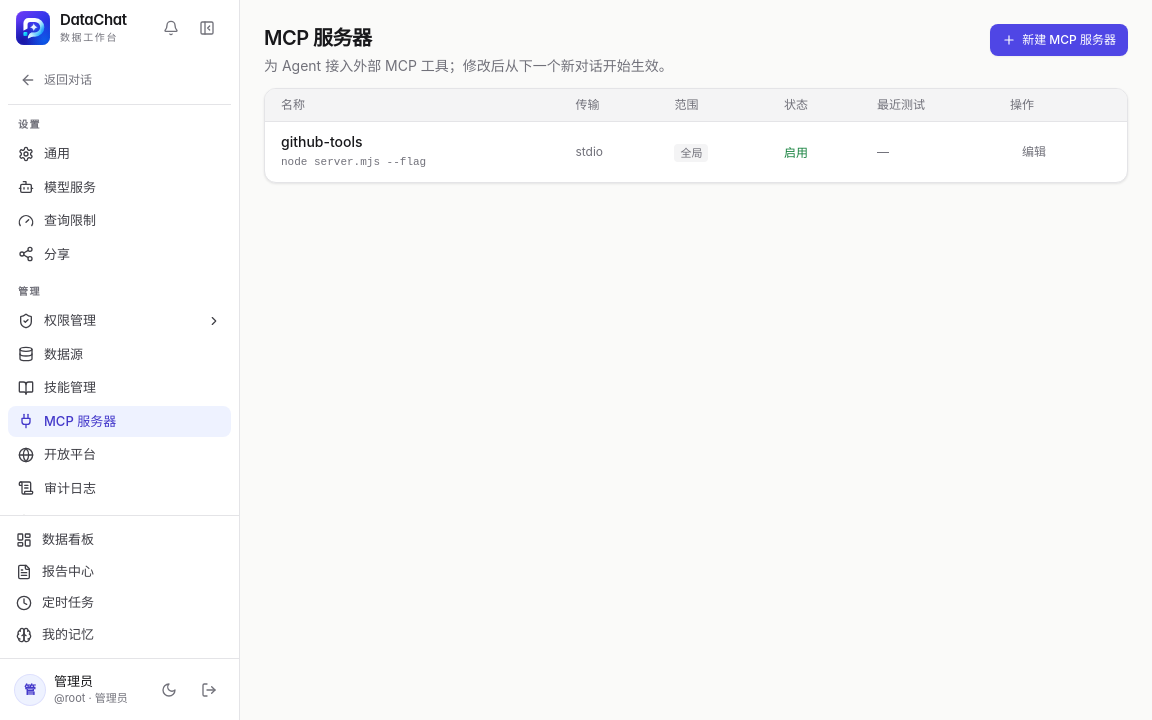
Test: McpPage › shows a sanitized failure message when the connection test fails
The width and height of the screenshot is (1152, 720).
Click the button "编辑" at (1034, 152), box [1010,136,1058,168]
(page scrolled)
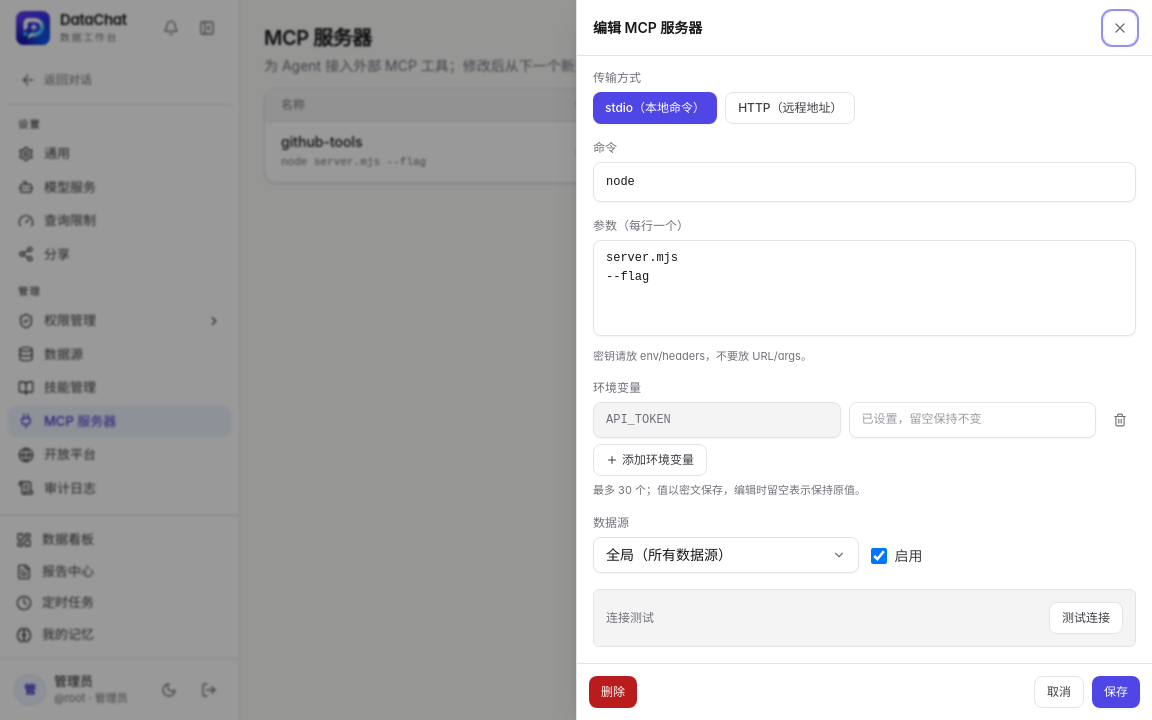
Click the button "测试连接" at (1086, 618), box [1049,602,1123,634]
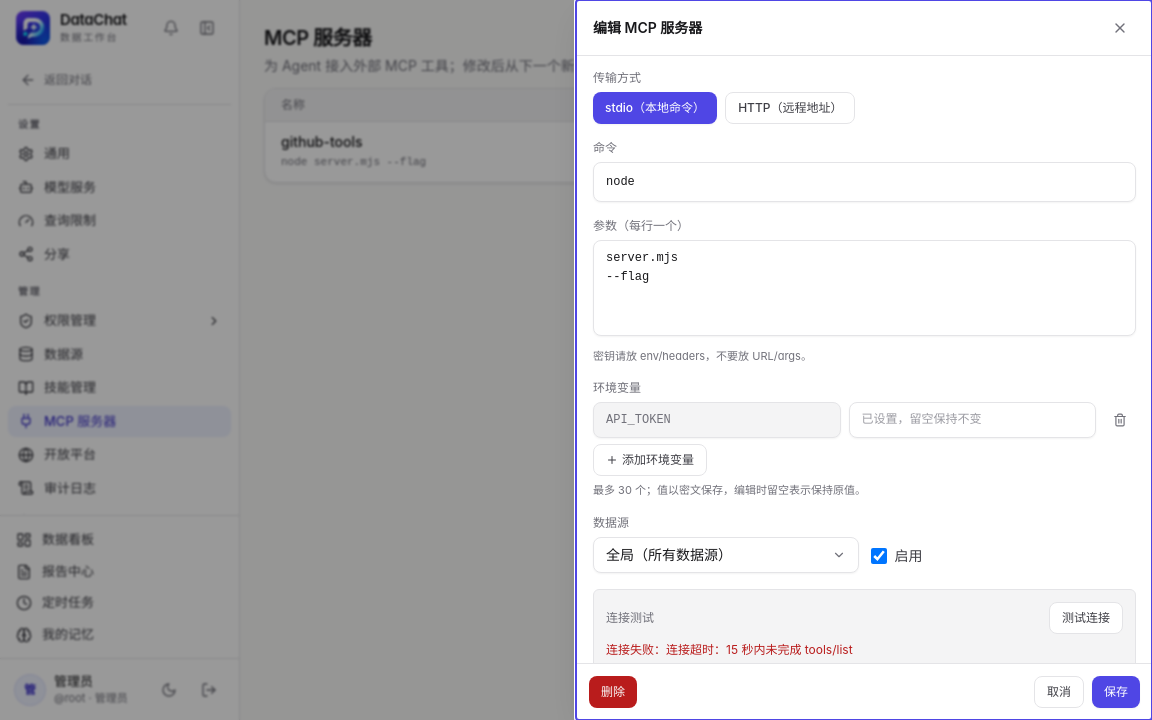
Check: the text "连接失败：连接超时：15 秒内未完成 tools/list" is shown, box [606,642,853,656]
